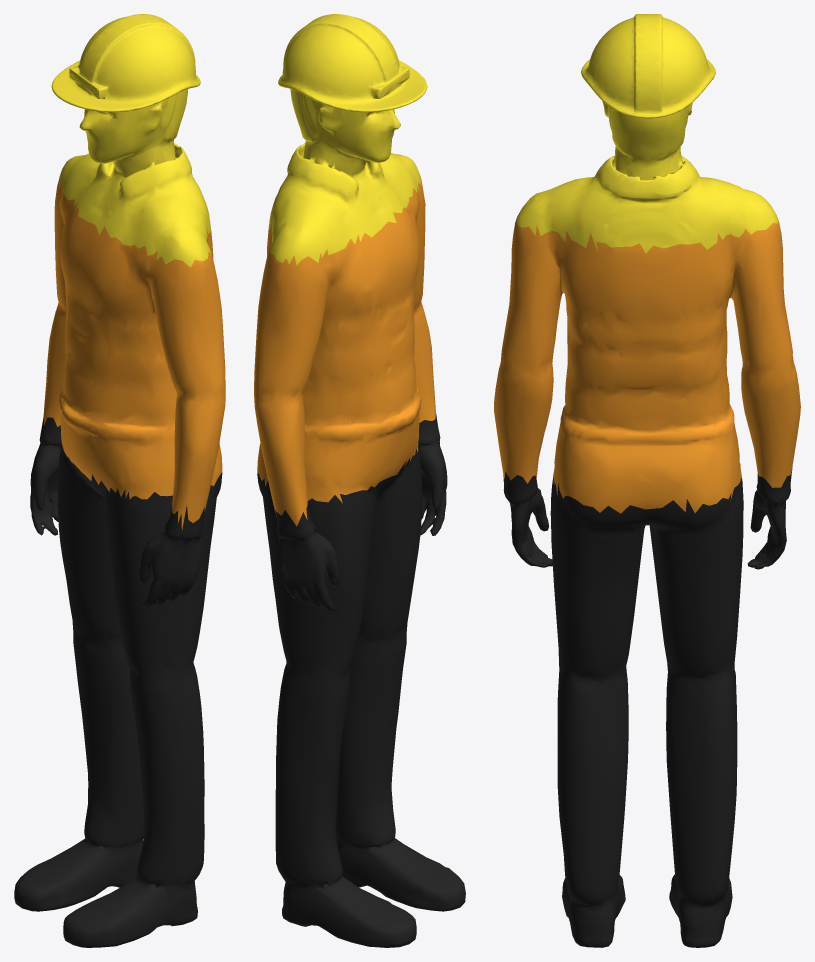
File: SafetyPerson.dae
3 renders of one model, left to right at view 1: azimuth 30°, elevation 25°; view 2: azimuth 150°, elevation 25°; view 3: azimuth 270°, elevation 25°, orthographic. The views are drawn at different scales.
Parts seen in each view (by area): view 1: safetyman_001.001; view 2: safetyman_001.001; view 3: safetyman_001.001.
Part boxes in pixels (left/top/right/bottom): safetyman_001.001: left=14, top=14, right=225, bottom=947; safetyman_001.001: left=254, top=14, right=465, bottom=947; safetyman_001.001: left=494, top=14, right=800, bottom=947.
Bounding box in the file's own units: 0.3219 × 0.5327 × 1.75.
